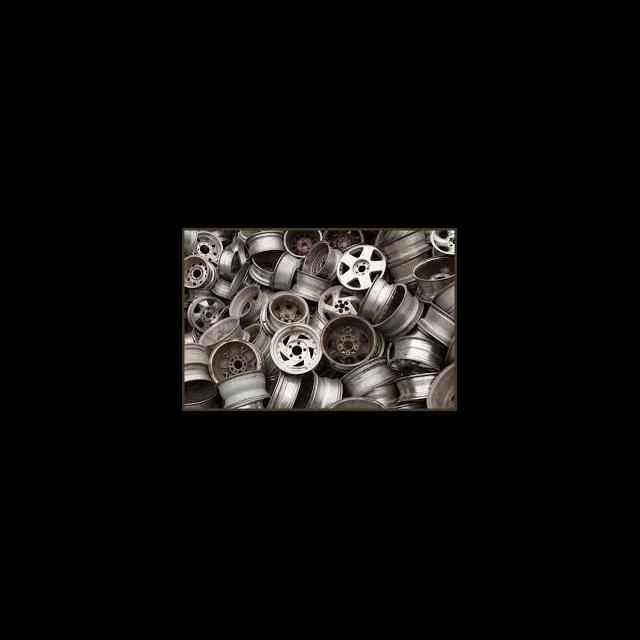metal: (316, 310, 382, 372), (332, 240, 394, 292), (268, 320, 320, 380), (204, 338, 272, 382), (338, 352, 398, 398), (408, 250, 457, 304), (386, 332, 442, 379), (212, 368, 274, 408), (196, 314, 258, 352), (416, 298, 456, 351), (356, 270, 396, 322), (264, 290, 312, 330), (302, 236, 344, 280), (266, 246, 304, 290), (184, 228, 224, 266), (243, 254, 280, 288), (182, 252, 215, 290)
